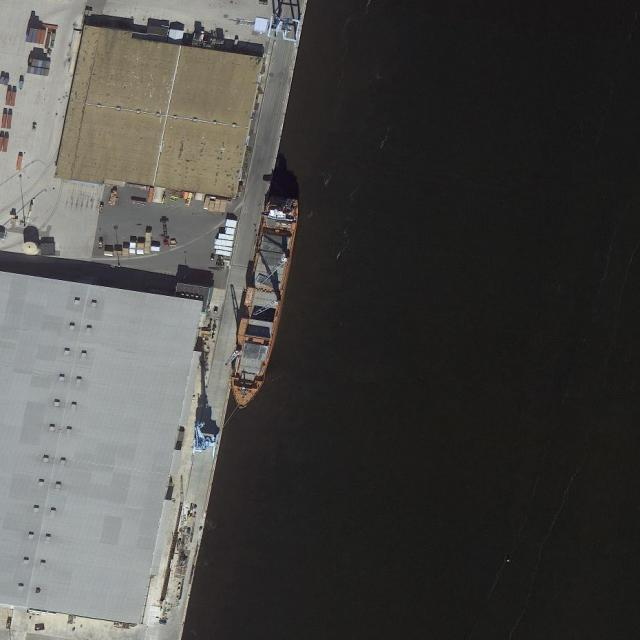Cargo: (221, 190, 305, 414)
